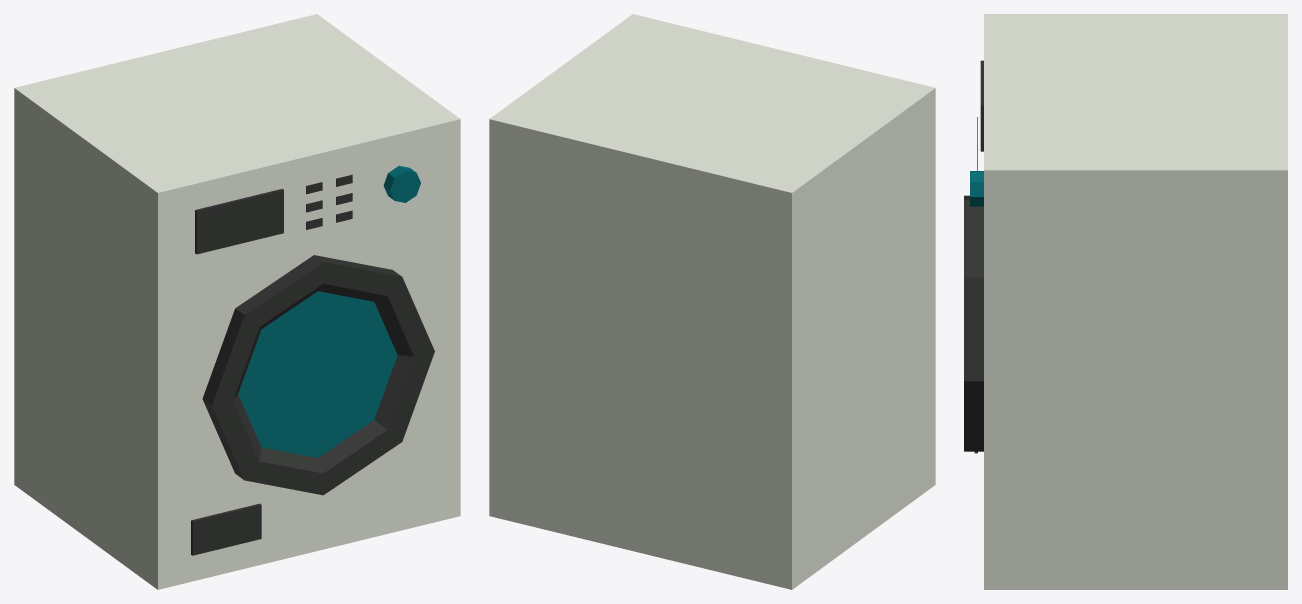
File: Laundry_washer_231109.glb
The picture shows the model from 3 angles, left to right: view 1: azimuth 30°, elevation 25°; view 2: azimuth 150°, elevation 25°; view 3: azimuth 270°, elevation 25°; orthographic projection. The views are drawn at different scales.
Visible parts, largest first — view 1: Laundry_washer; view 2: Laundry_washer; view 3: Laundry_washer.
Part boxes in pixels (box(x1,y1,x2,y2)): Laundry_washer: box(14, 14, 460, 589); Laundry_washer: box(489, 14, 935, 589); Laundry_washer: box(964, 14, 1287, 589).
Bounding box in the file's own units: 1.12 × 1.4 × 0.9799.
Materials: 1 (1 with a texture image).
